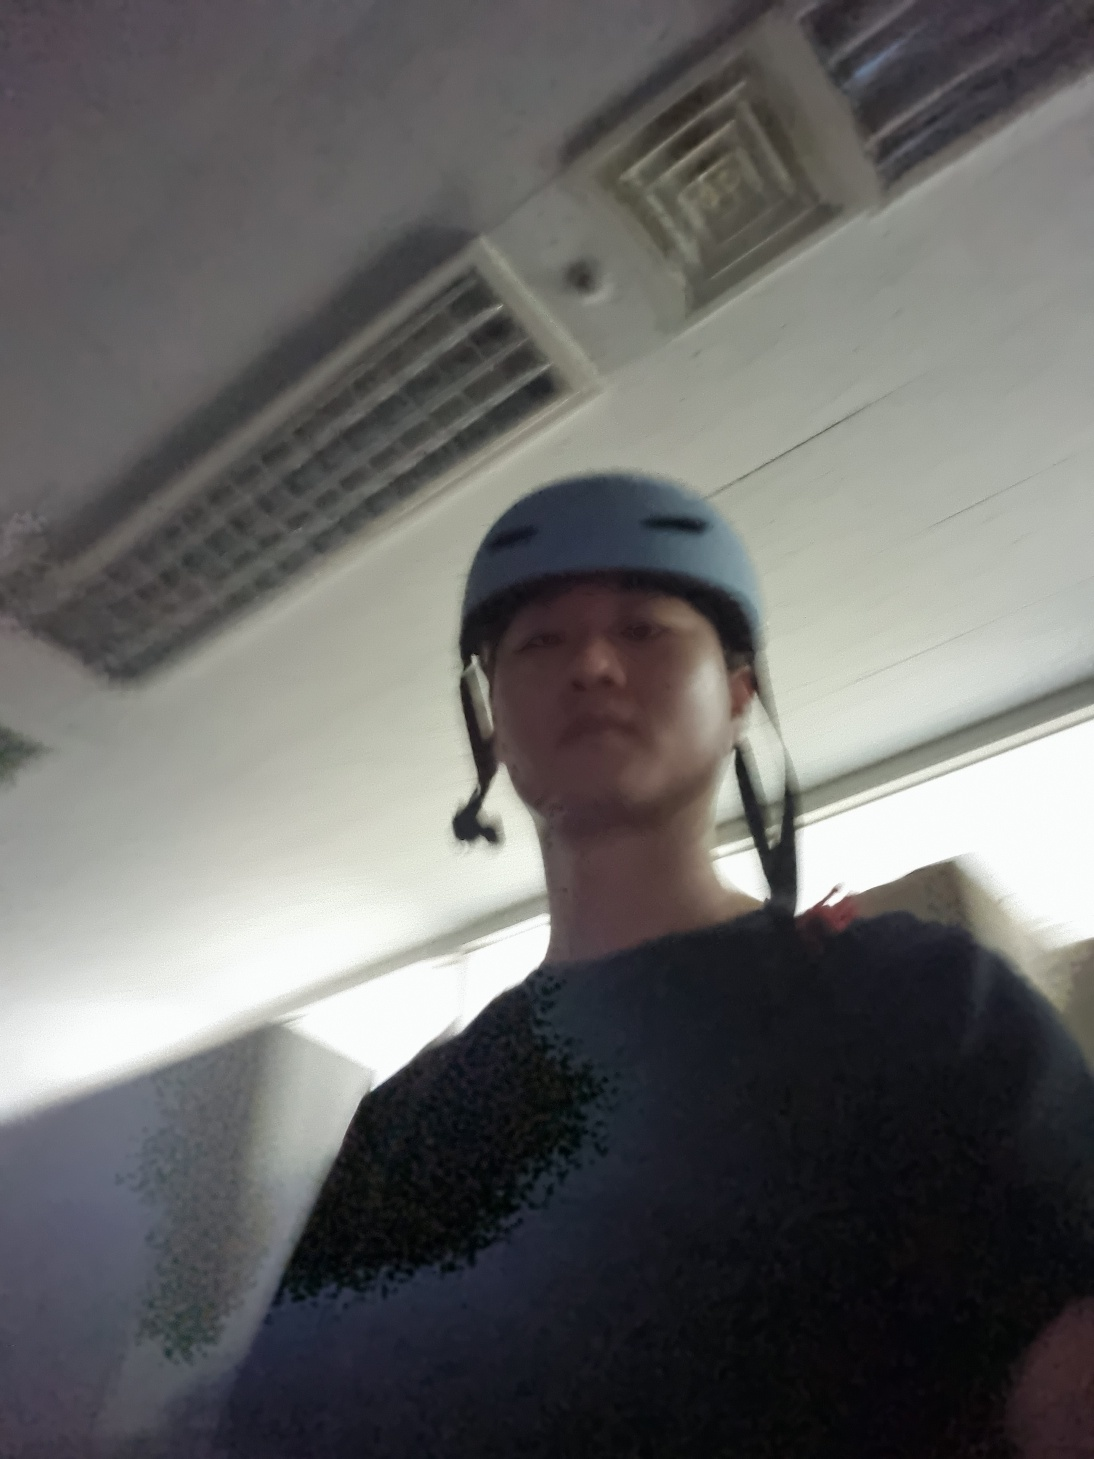Helmet: (413, 438, 848, 909)
